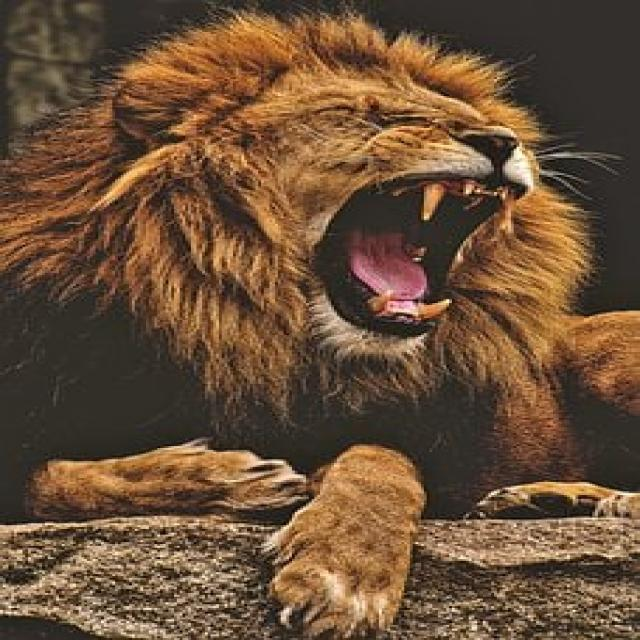Lion: (0, 19, 637, 638)
